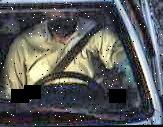seatbelt: (42, 19, 104, 75)
